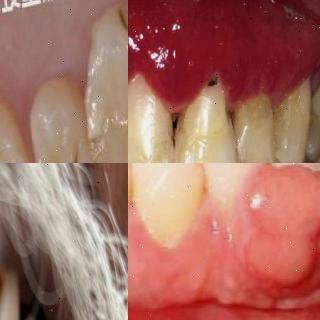Gum Swelling: (219, 168, 320, 310), (128, 44, 310, 115)
calculus: (220, 102, 252, 140)
cavities: (93, 0, 128, 76), (198, 63, 232, 101)
plaque: (277, 86, 311, 143), (164, 104, 201, 154)
